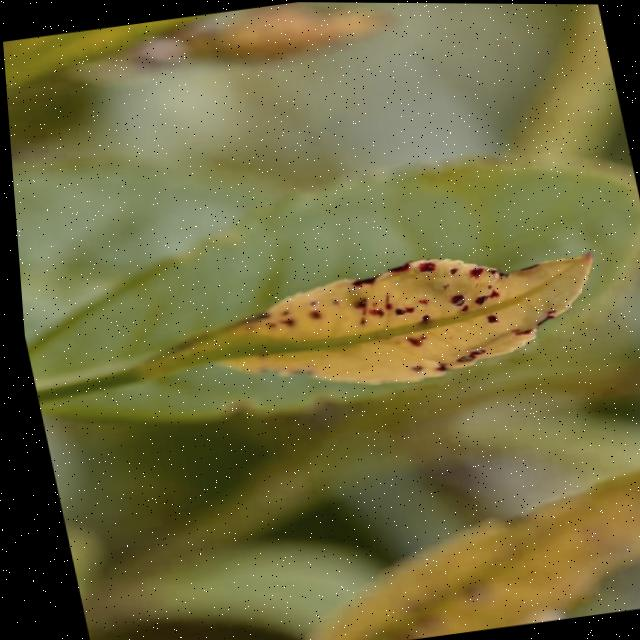Tea red scab: (292, 247, 571, 391)
